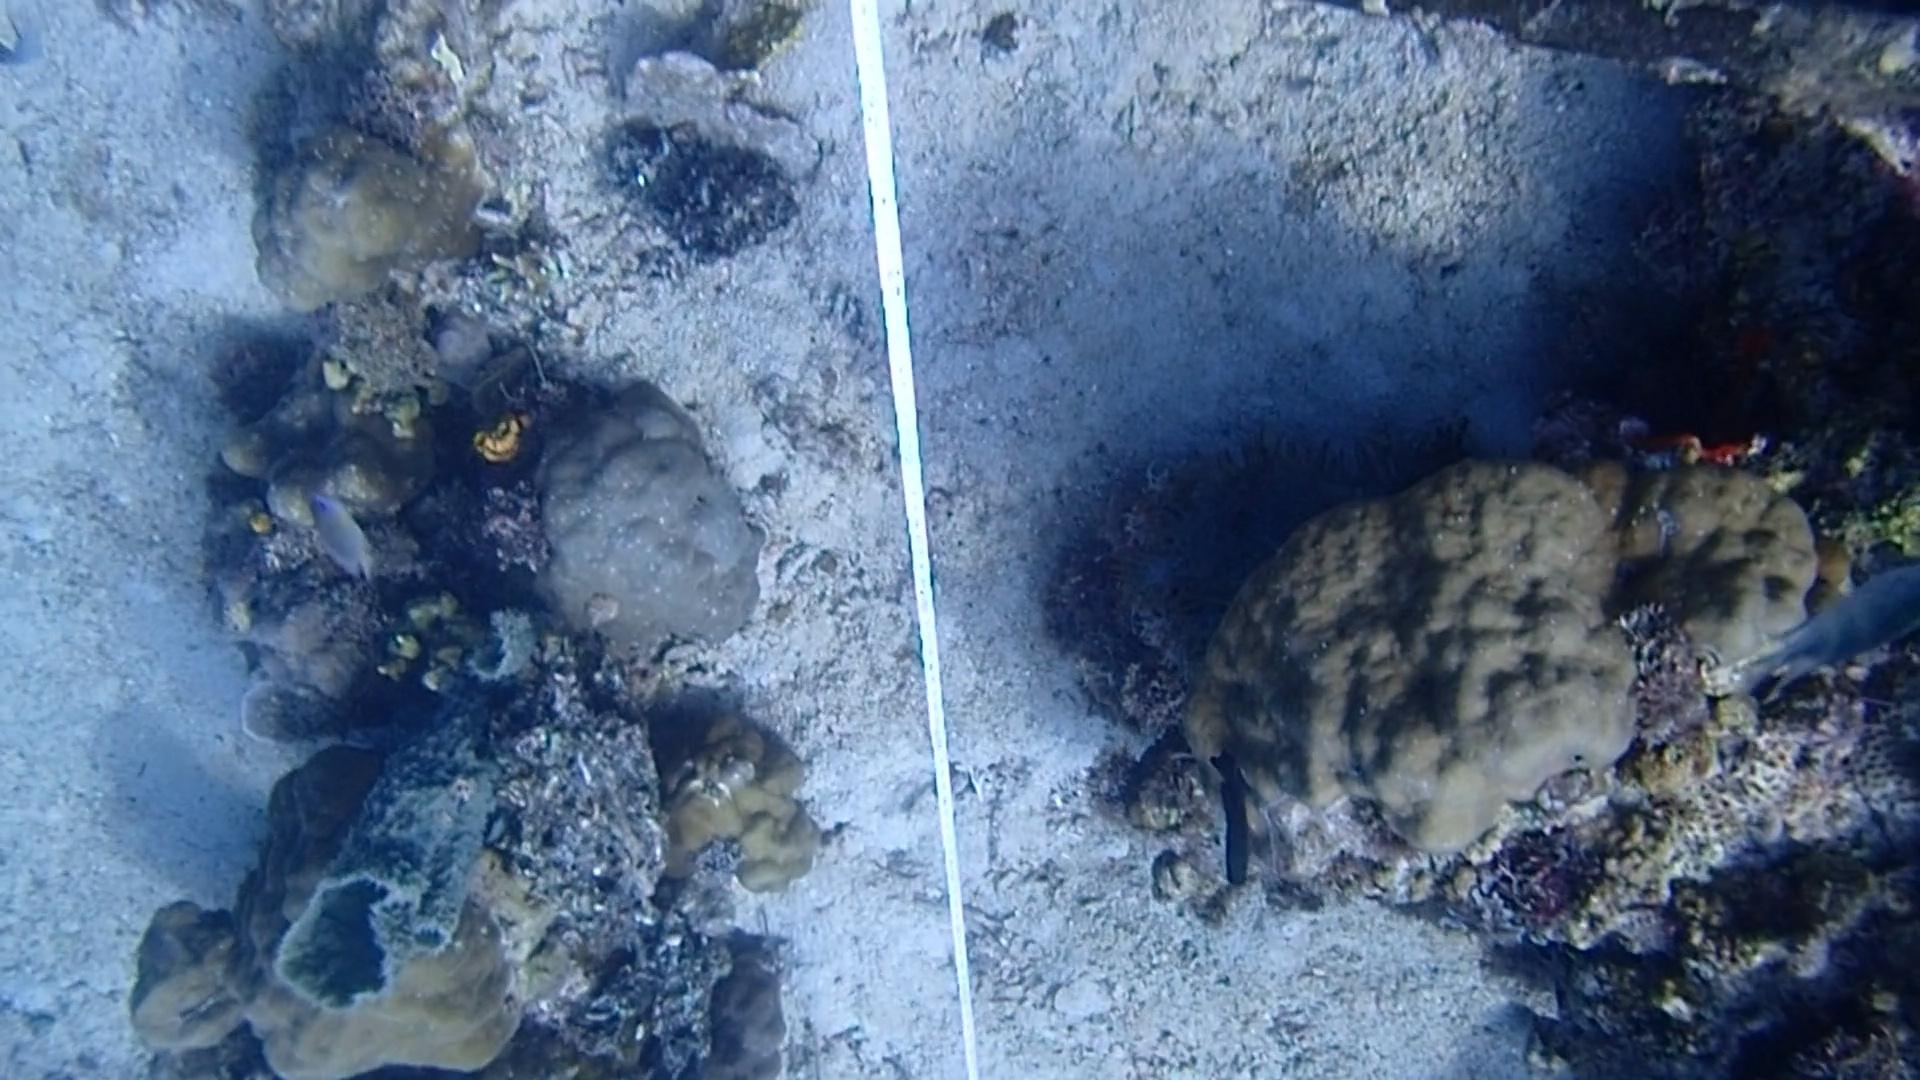Blue Fish: (1754, 527, 1920, 742)
Blue Nose Fish: (297, 485, 390, 596)
Dark Fish: (1196, 750, 1279, 901)
